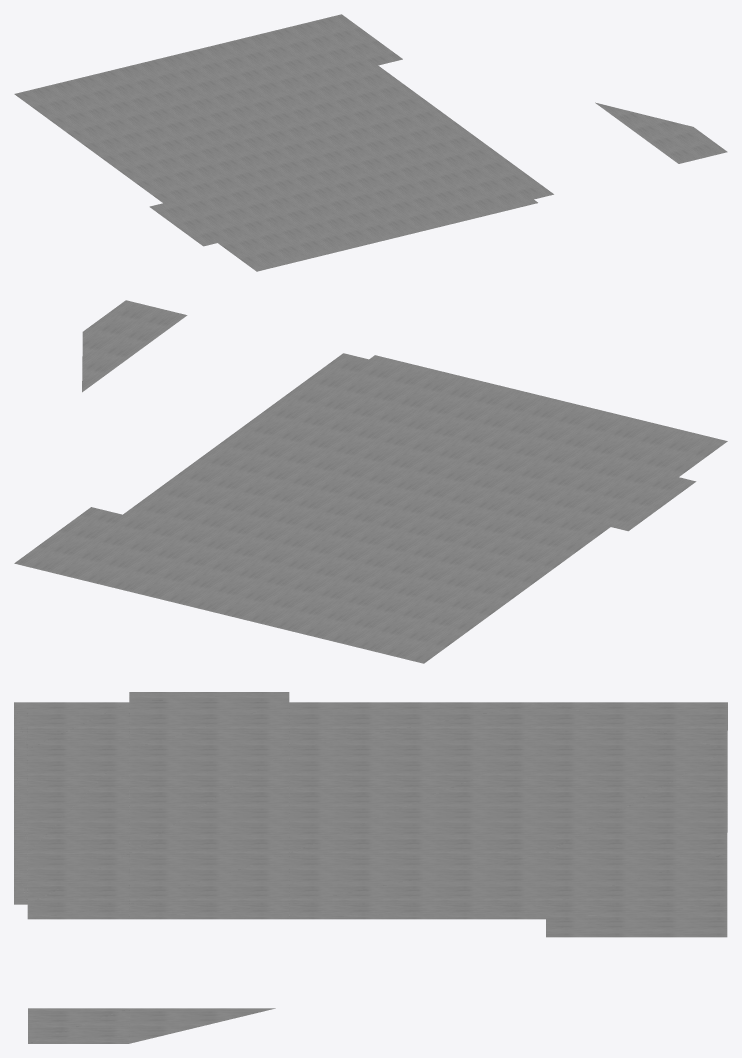
The model's file is SueloNormal.fbx.
3 renders of one model, top to bottom at view 1: azimuth 30°, elevation 25°; view 2: azimuth 150°, elevation 25°; view 3: azimuth 270°, elevation 25°, orthographic. The views are drawn at different scales.
Parts seen in each view (by area): view 1: studio_floor; view 2: studio_floor; view 3: studio_floor.
Boxes of the visible parts, box(x1,y1,x2,y2) form: studio_floor: box(14, 14, 727, 271); studio_floor: box(14, 300, 727, 663); studio_floor: box(14, 692, 727, 1043).
Bounding box in the file's own units: 21.97 × 3.07e-06 × 18.85.
Materials: 1 (1 with a texture image).
